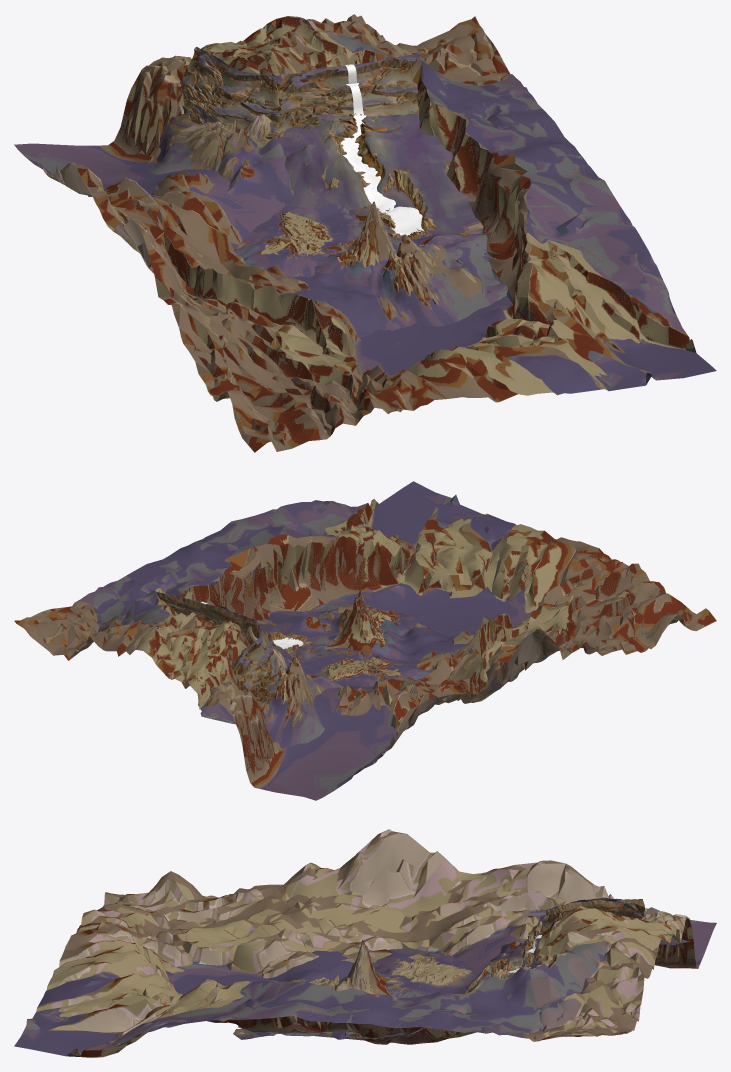
Rendered from tutorial_level_refined.fbx.
3 renders of one model, top to bottom at view 1: azimuth 30°, elevation 25°; view 2: azimuth 150°, elevation 25°; view 3: azimuth 270°, elevation 25°, orthographic. The views are drawn at different scales.
Visible parts, largest first — view 1: background_canyon, goal_mountain, big_start_canyon, goal_mountain.002, backing_cliff2, outer_plateau, backing_cliff3, lower_lake_canyon, river, lake; view 2: background_canyon, goal_mountain, goal_mountain.002, outer_plateau, backing_cliff3, backing_cliff2, lower_lake_canyon; view 3: background_canyon, goal_mountain, outer_plateau, backing_cliff3, big_start_canyon, backing_cliff2, goal_mountain.002.
Boxes of the visible parts, x1=… form: background_canyon: x1=14, y1=14, x2=716, y2=452; goal_mountain: x1=293, y1=201, x2=507, y2=338; big_start_canyon: x1=269, y1=112, x2=452, y2=211; goal_mountain.002: x1=88, y1=75, x2=293, y2=203; backing_cliff2: x1=278, y1=53, x2=419, y2=131; outer_plateau: x1=234, y1=203, x2=361, y2=277; backing_cliff3: x1=180, y1=47, x2=283, y2=141; lower_lake_canyon: x1=349, y1=160, x2=483, y2=239; river: x1=340, y1=119, x2=395, y2=213; lake: x1=386, y1=206, x2=423, y2=235; background_canyon: x1=14, y1=481, x2=716, y2=800; goal_mountain: x1=267, y1=591, x2=466, y2=664; goal_mountain.002: x1=198, y1=625, x2=343, y2=748; outer_plateau: x1=299, y1=647, x2=432, y2=686; backing_cliff3: x1=233, y1=619, x2=281, y2=706; backing_cliff2: x1=148, y1=590, x2=272, y2=640; lower_lake_canyon: x1=257, y1=619, x2=326, y2=661; background_canyon: x1=14, y1=829, x2=716, y2=1057; goal_mountain: x1=233, y1=940, x2=392, y2=1039; outer_plateau: x1=374, y1=948, x2=479, y2=997; backing_cliff3: x1=522, y1=897, x2=644, y2=944; big_start_canyon: x1=464, y1=942, x2=526, y2=994; backing_cliff2: x1=520, y1=909, x2=551, y2=968; goal_mountain.002: x1=500, y1=911, x2=690, y2=953.
Bounding box in the file's own units: 140840 × 34702 × 191960.
